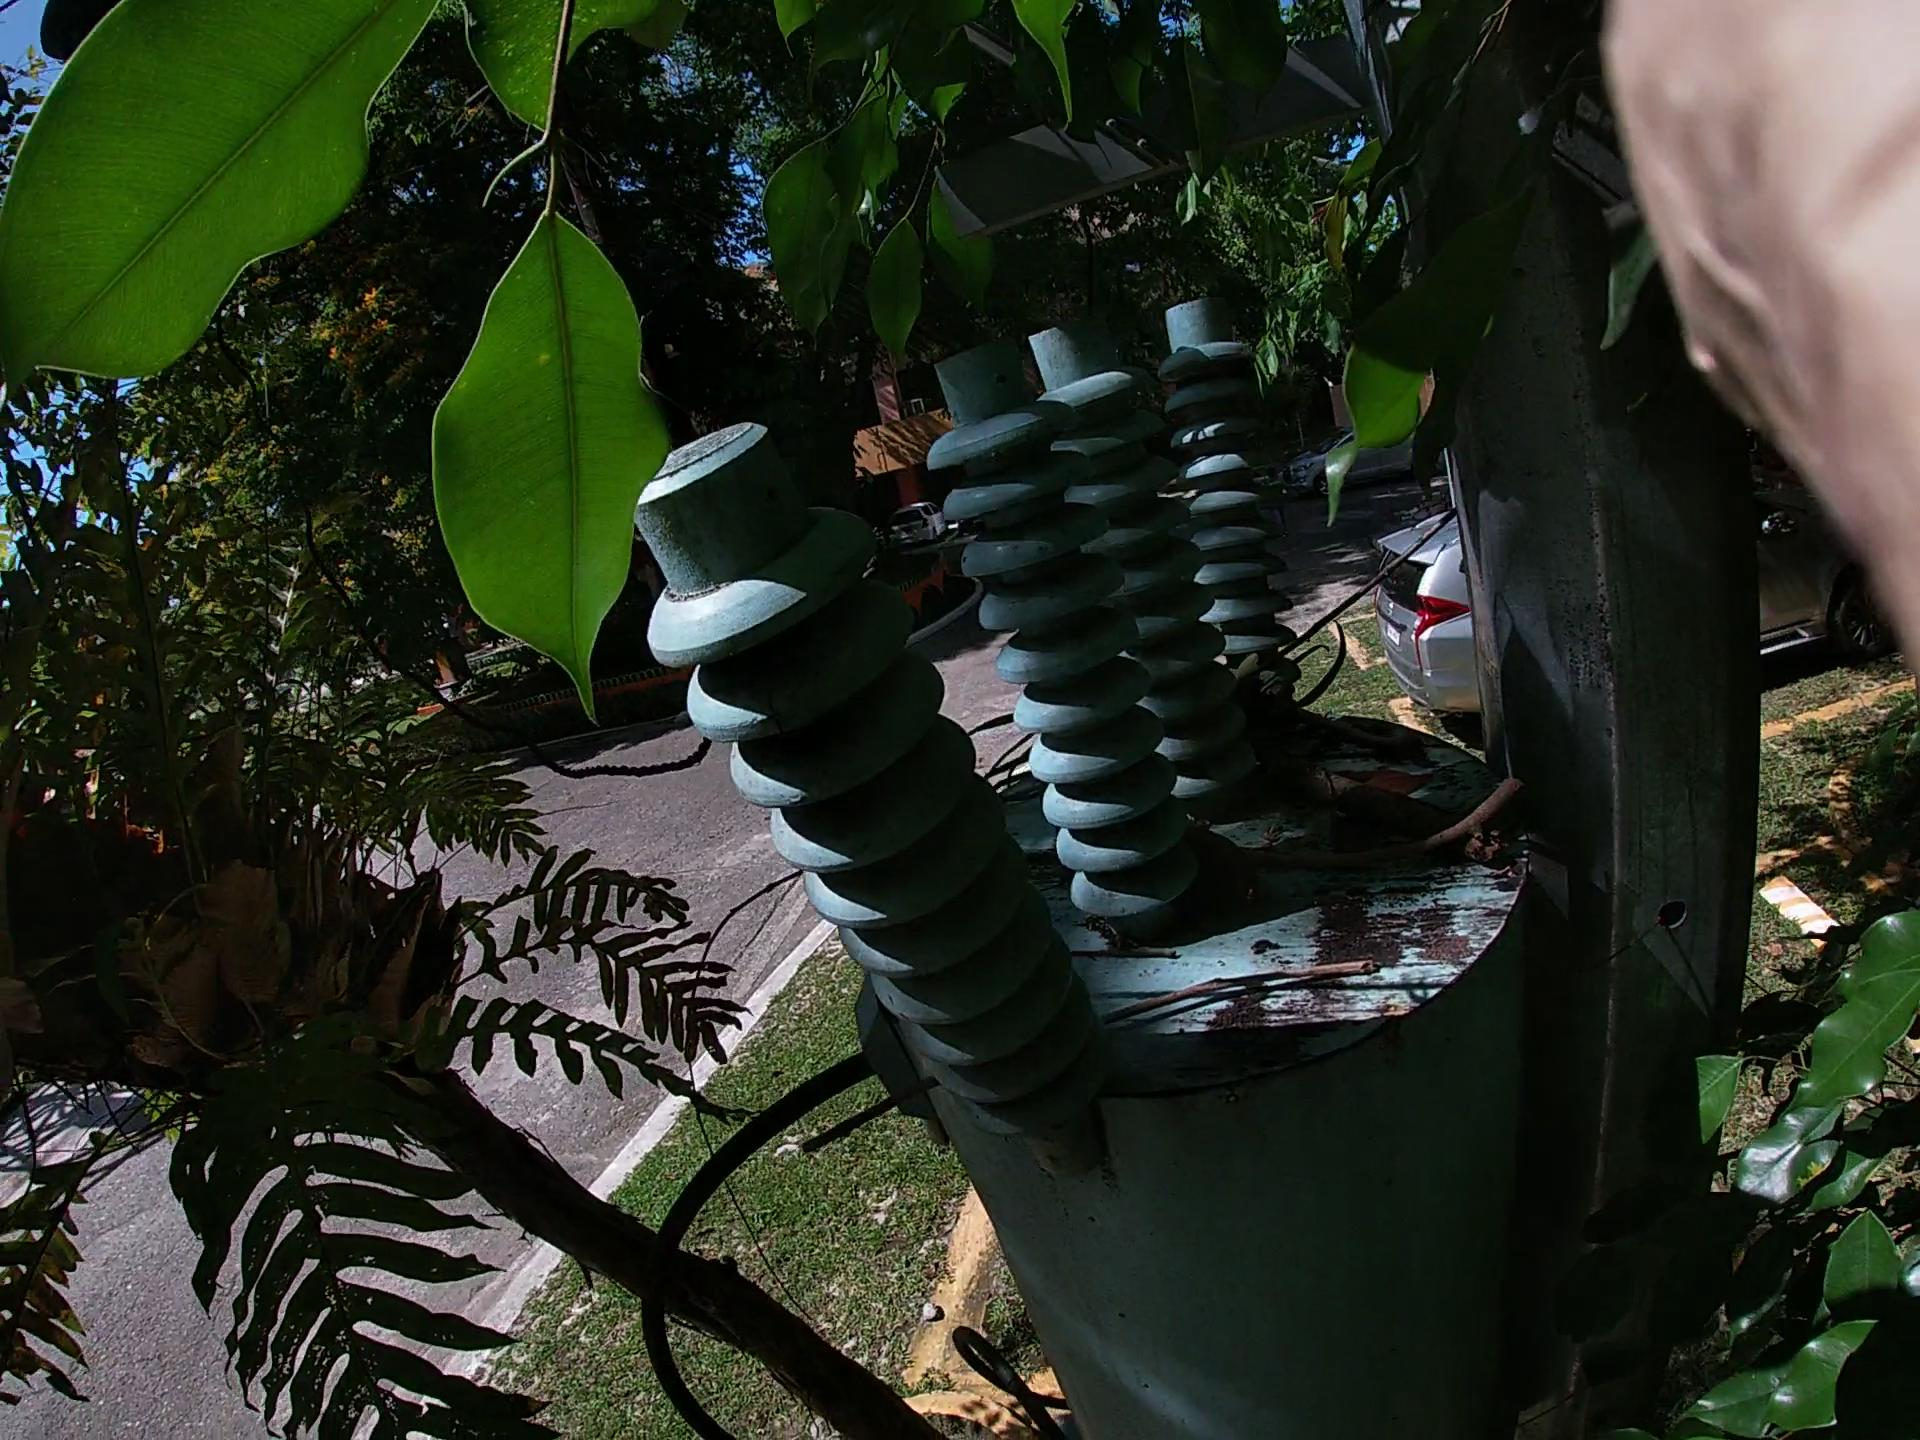leaf: (1346, 722, 1394, 820)
mahogany fruit: (1241, 669, 1445, 811)
tree branch: (574, 411, 1584, 1150), (739, 945, 1333, 1142), (1271, 720, 1639, 935), (1281, 791, 1519, 871)
